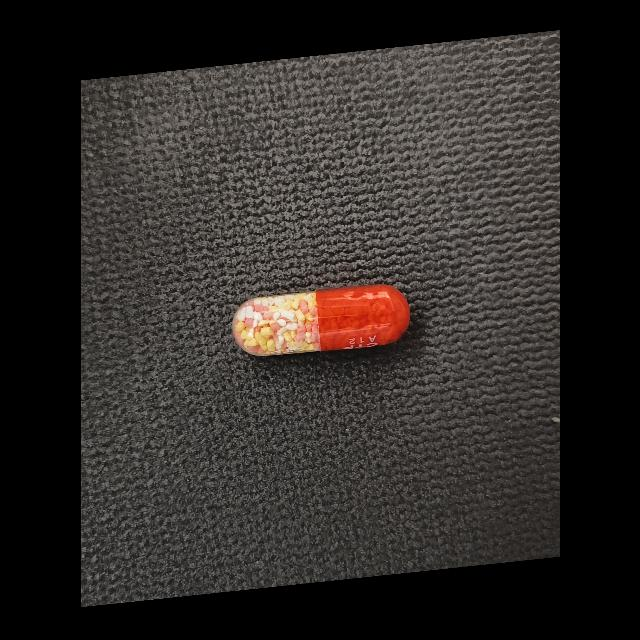Intact Capsule: (232, 284, 410, 356)
